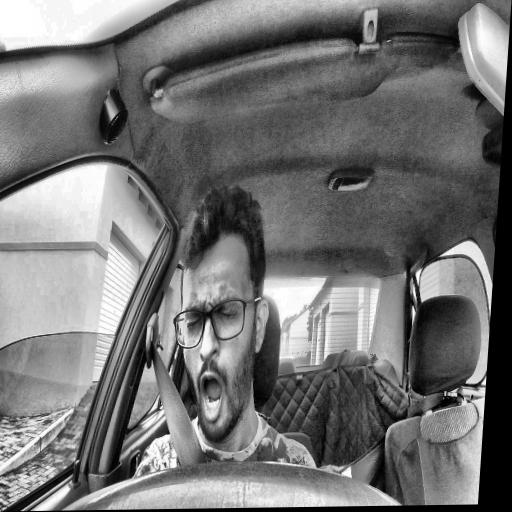drowsy: (164, 181, 278, 443)
